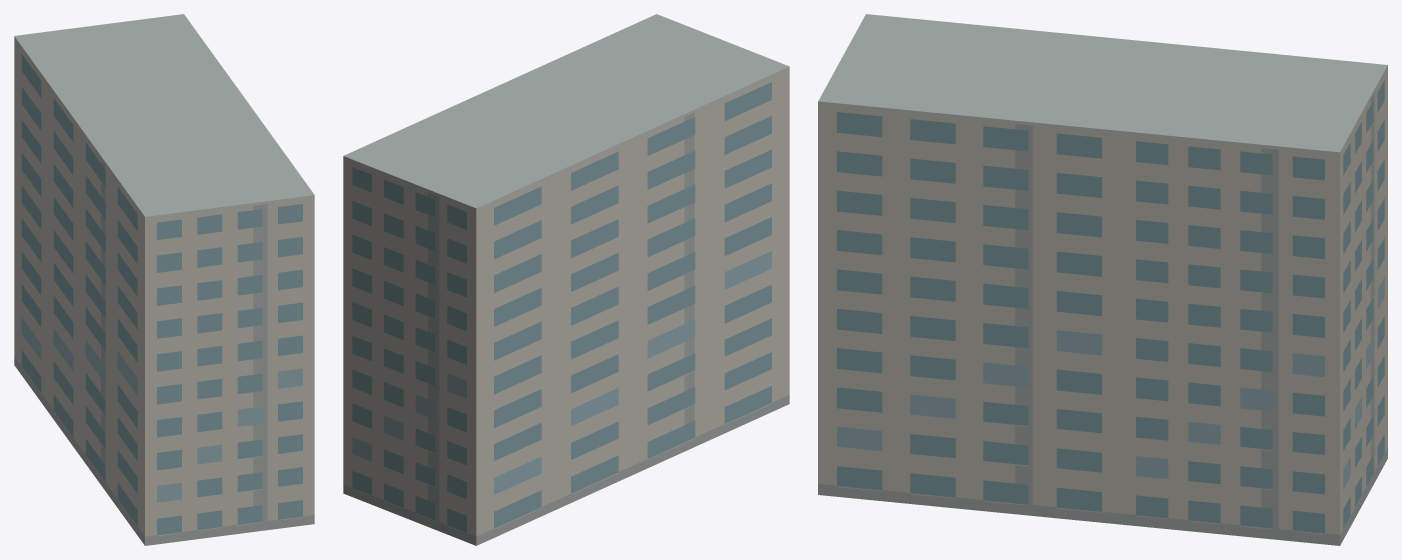
The model's file is residential-a02ff26a-f82d-450f-b48f-5a8ecb9d2950.glb.
3 views of the same model, side by side, from view 1: azimuth 30°, elevation 25°; view 2: azimuth 150°, elevation 25°; view 3: azimuth 270°, elevation 25° (orthographic). The views are drawn at different scales.
Parts seen in each view (by area): view 1: residential-a02ff26a-f82d-450f-b48f-5a8ecb9d2950.tmp; view 2: residential-a02ff26a-f82d-450f-b48f-5a8ecb9d2950.tmp; view 3: residential-a02ff26a-f82d-450f-b48f-5a8ecb9d2950.tmp.
Part boxes in pixels (left/top/right/bottom): residential-a02ff26a-f82d-450f-b48f-5a8ecb9d2950.tmp: left=14, top=14, right=314, bottom=545; residential-a02ff26a-f82d-450f-b48f-5a8ecb9d2950.tmp: left=343, top=14, right=789, bottom=545; residential-a02ff26a-f82d-450f-b48f-5a8ecb9d2950.tmp: left=818, top=14, right=1387, bottom=545.
Bounding box in the file's own units: 21.88 × 29 × 38.06.
